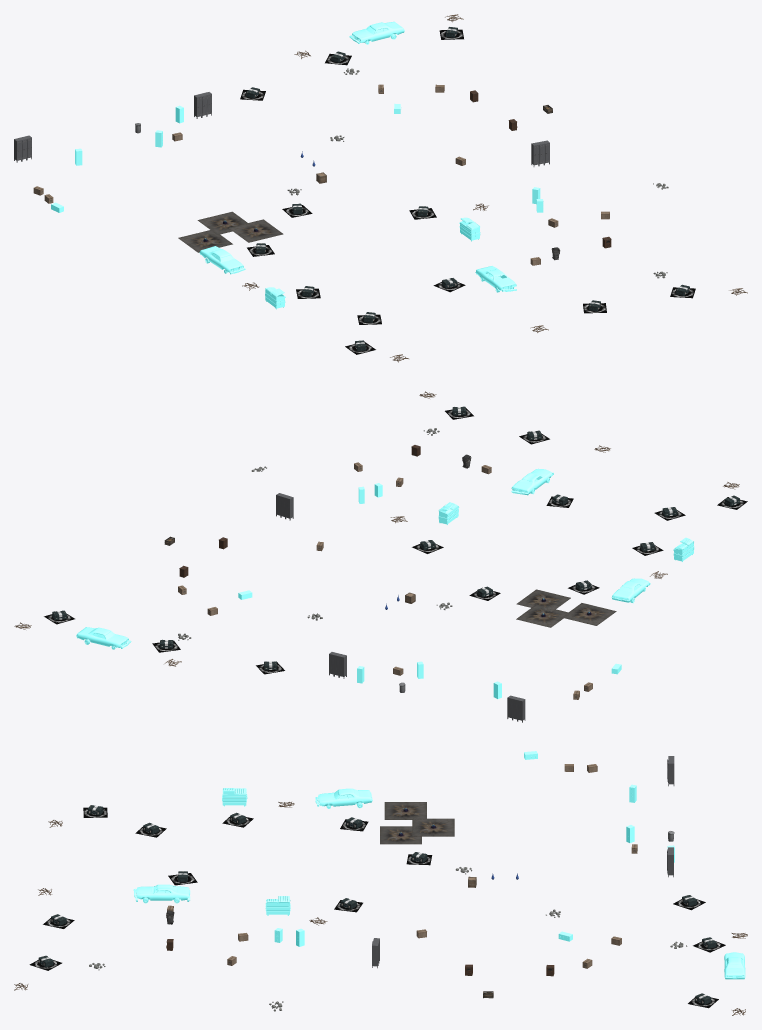
The model's file is SCHOOL.fbx.
3 renders of one model, top to bottom at view 1: azimuth 30°, elevation 25°; view 2: azimuth 150°, elevation 25°; view 3: azimuth 270°, elevation 25°, orthographic. The views are drawn at different scales.
Visible parts, largest first — view 1: ItemBox_CraterBase (×3), Common_OBJ_WreckCar_Yellow (×2), Common_OBJ_WreckCar_White; view 2: ItemBox_CraterBase (×3), Common_OBJ_WreckCar_Yellow (×2), Common_OBJ_WreckCar_White; view 3: ItemBox_CraterBase (×3), Common_OBJ_WreckCar_Yellow (×2), Common_OBJ_WreckCar_White, ItemBox_Dumpster_01.
Part boxes in pixels (x1=…): ItemBox_CraterBase (×3): x1=178, y1=211, x2=283, y2=252; Common_OBJ_WreckCar_Yellow (×2): x1=199, y1=21, x2=404, y2=274; Common_OBJ_WreckCar_White: x1=475, y1=266, x2=516, y2=292; ItemBox_CraterBase (×3): x1=516, y1=589, x2=616, y2=627; Common_OBJ_WreckCar_Yellow (×2): x1=76, y1=578, x2=650, y2=649; Common_OBJ_WreckCar_White: x1=511, y1=468, x2=553, y2=495; ItemBox_CraterBase (×3): x1=380, y1=802, x2=454, y2=844; Common_OBJ_WreckCar_Yellow (×2): x1=315, y1=788, x2=745, y2=979; Common_OBJ_WreckCar_White: x1=133, y1=884, x2=190, y2=903; ItemBox_Dumpster_01: x1=222, y1=788, x2=247, y2=806.
Bounding box in the file's own units: 58.55 × 3.41 × 70.65.
